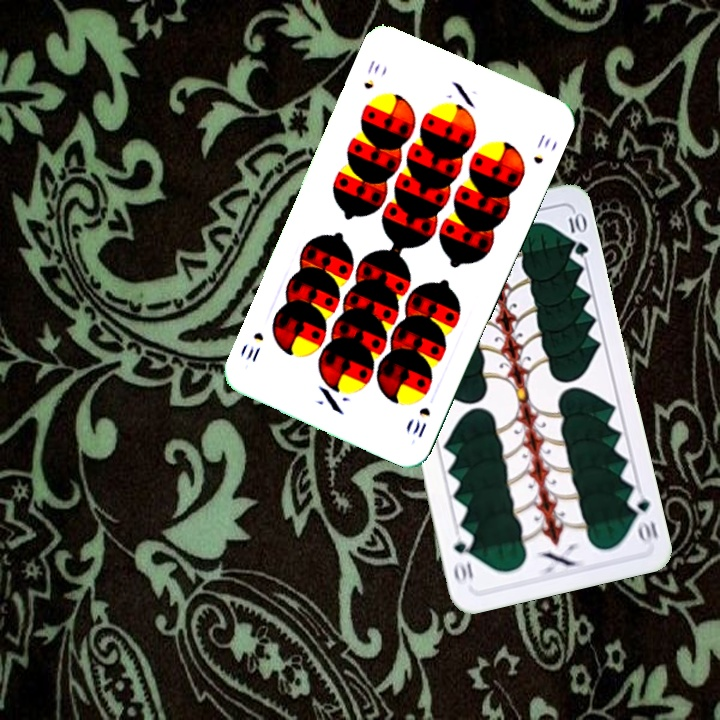G10: (624, 487, 660, 547)
S10: (408, 403, 433, 441), (359, 56, 383, 92)
